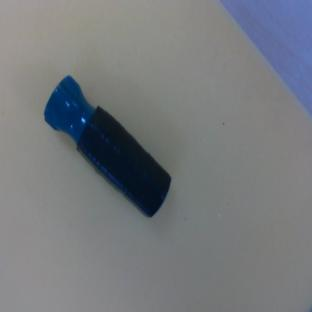part_2_bad: (33, 73, 182, 221)
